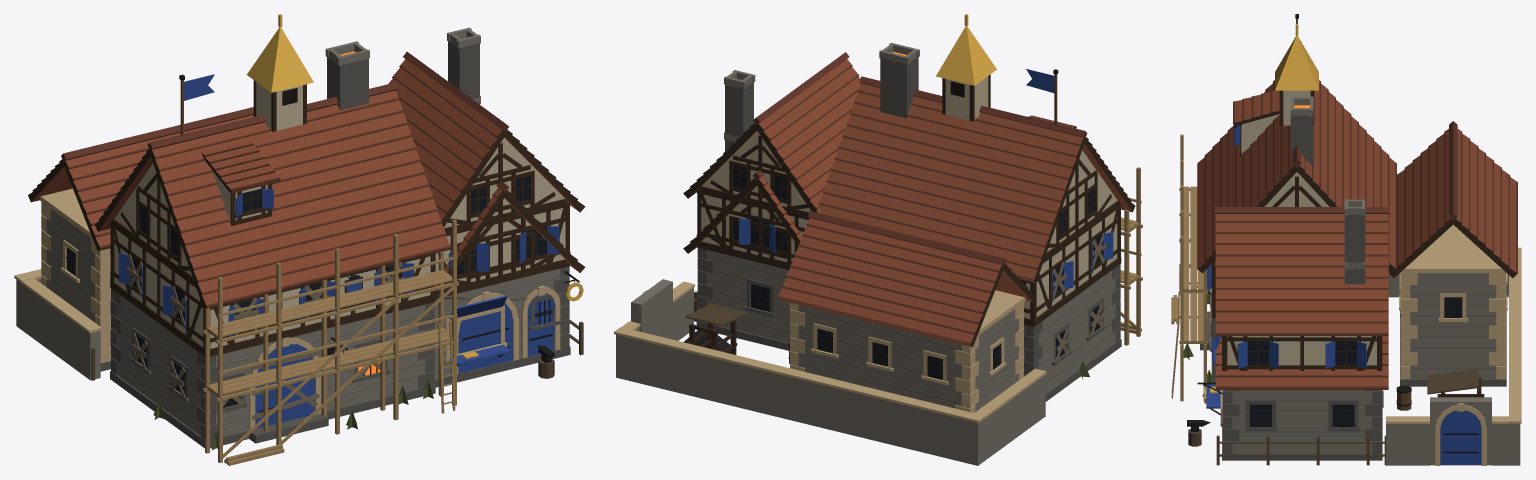
File: schmied.glb
3 views of the same model, side by side, from view 1: azimuth 30°, elevation 25°; view 2: azimuth 150°, elevation 25°; view 3: azimuth 270°, elevation 25° (orthographic). The views are drawn at different scales.
Visible parts, largest first — view 1: Haus, Stufe3, Geruest, Stufe2, Leerstand, Fahne; view 2: Stufe3, Haus, Stufe2, Geruest, Leerstand, Fahne; view 3: Stufe3, Stufe2, Haus, Geruest, Stufe1.
Boxes of the visible parts, x1,y1,x2,y2 form: Haus: (95,41,450,448); Stufe3: (14,14,585,380); Geruest: (203,220,458,465); Stufe2: (201,96,585,387); Leerstand: (126,254,433,450); Fahne: (179,74,214,135); Stufe3: (614,14,1046,465); Haus: (819,42,1135,401); Stufe2: (683,115,1076,364); Geruest: (1120,167,1142,345); Leerstand: (1051,233,1106,378); Fahne: (1026,69,1058,124); Stufe3: (1197,24,1521,465); Stufe2: (1187,90,1484,465); Haus: (1189,80,1396,390); Geruest: (1171,134,1207,401); Stufe1: (1216,435,1384,465).
Bounding box in the file's own units: 15.92 × 14.04 × 13.57.
